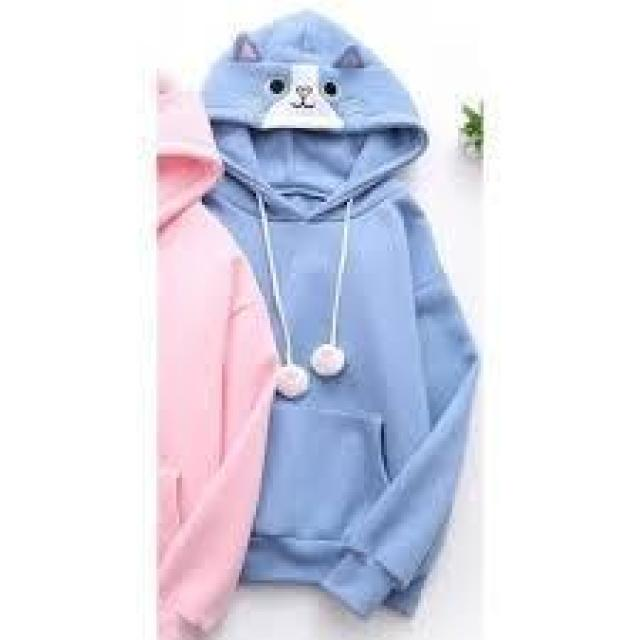sweater: (190, 11, 470, 620)
